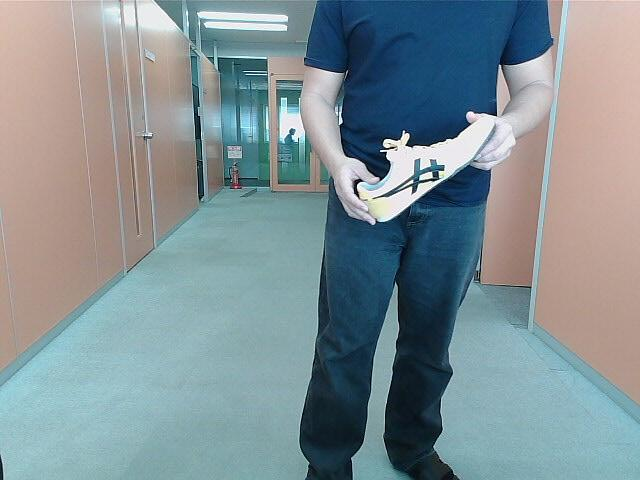Shoes: (357, 108, 502, 234)
